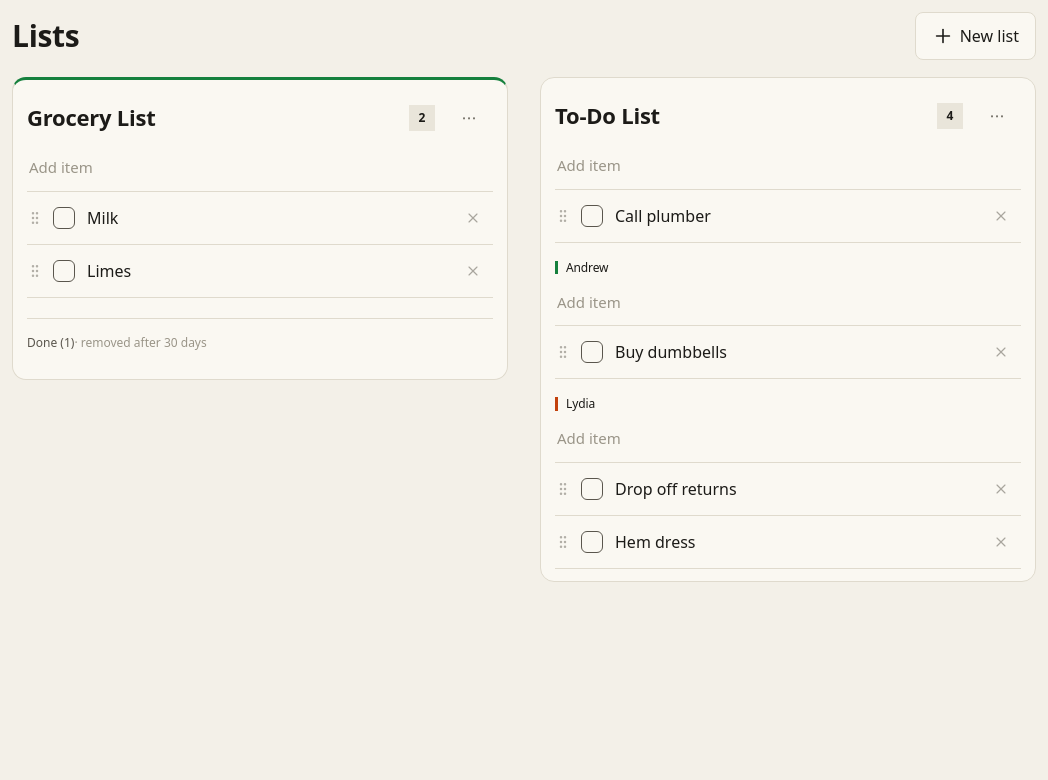
Test: ListsBoard › edits an item by tapping its words, and Escape cancels
This screenshot has width=1048, height=780.
Click the button with aria-label "Edit Milk". click: (103, 218)
box: [87, 192, 441, 244]
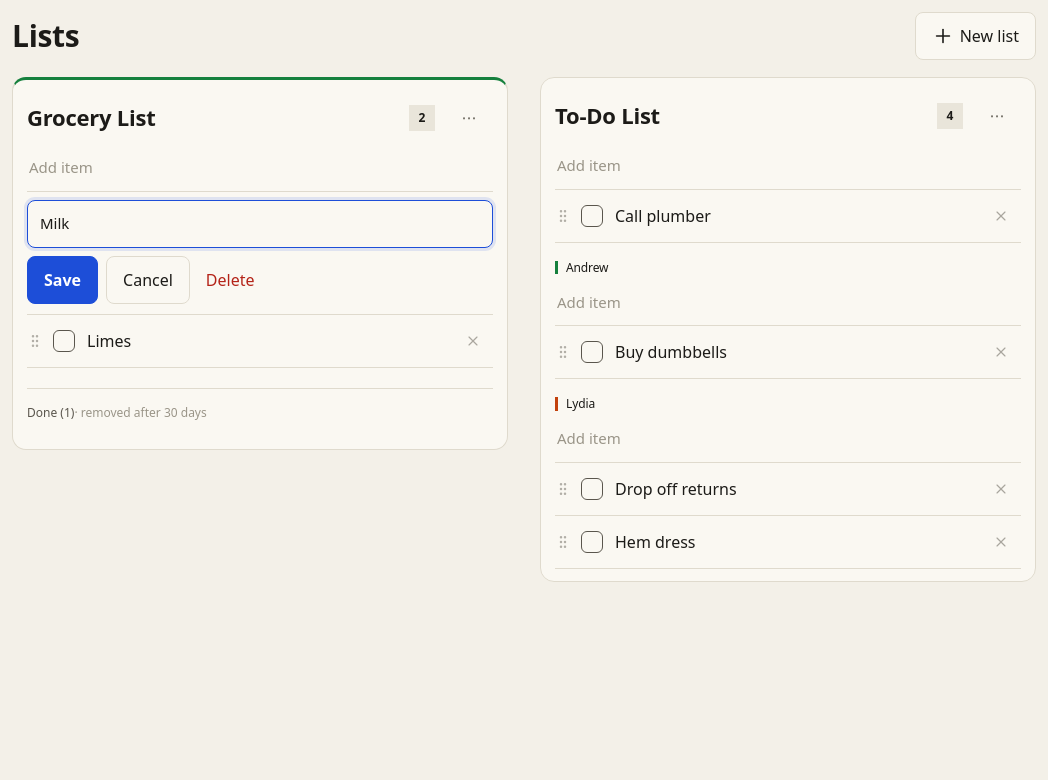
Replace the text in the field named "Item" with "Oat milk". click: (260, 224)
box: [27, 200, 493, 248]
Then press Enter
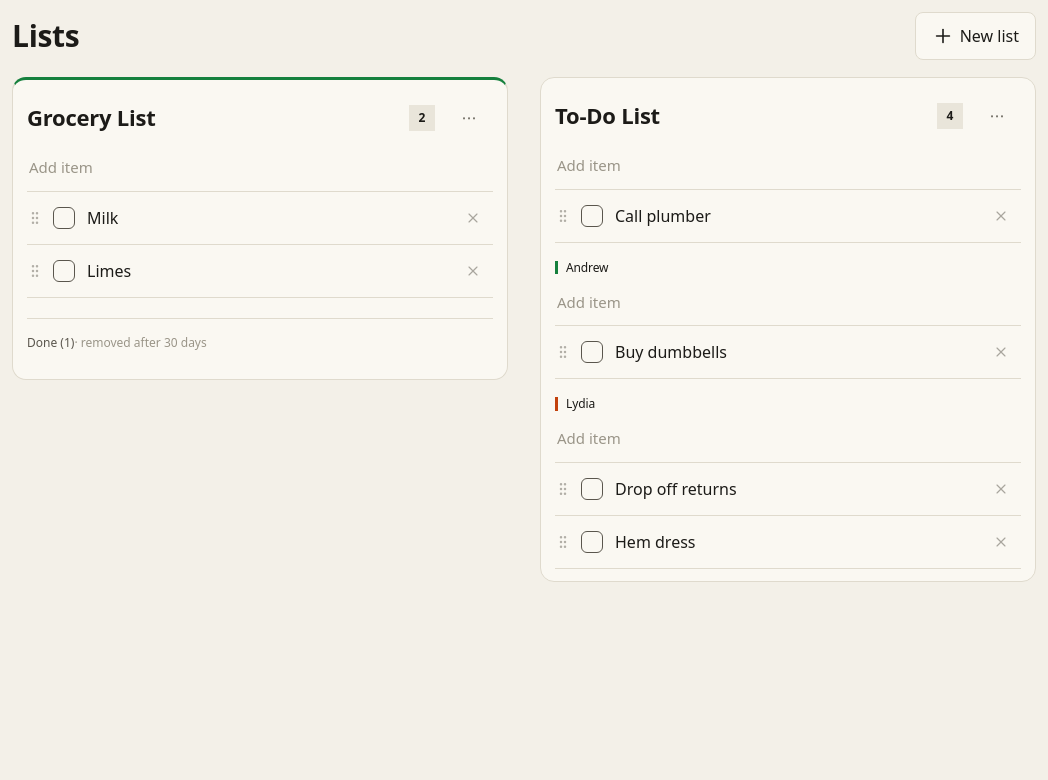
Click the button with aria-label "Edit Limes". click: (109, 270)
box: [87, 244, 441, 296]
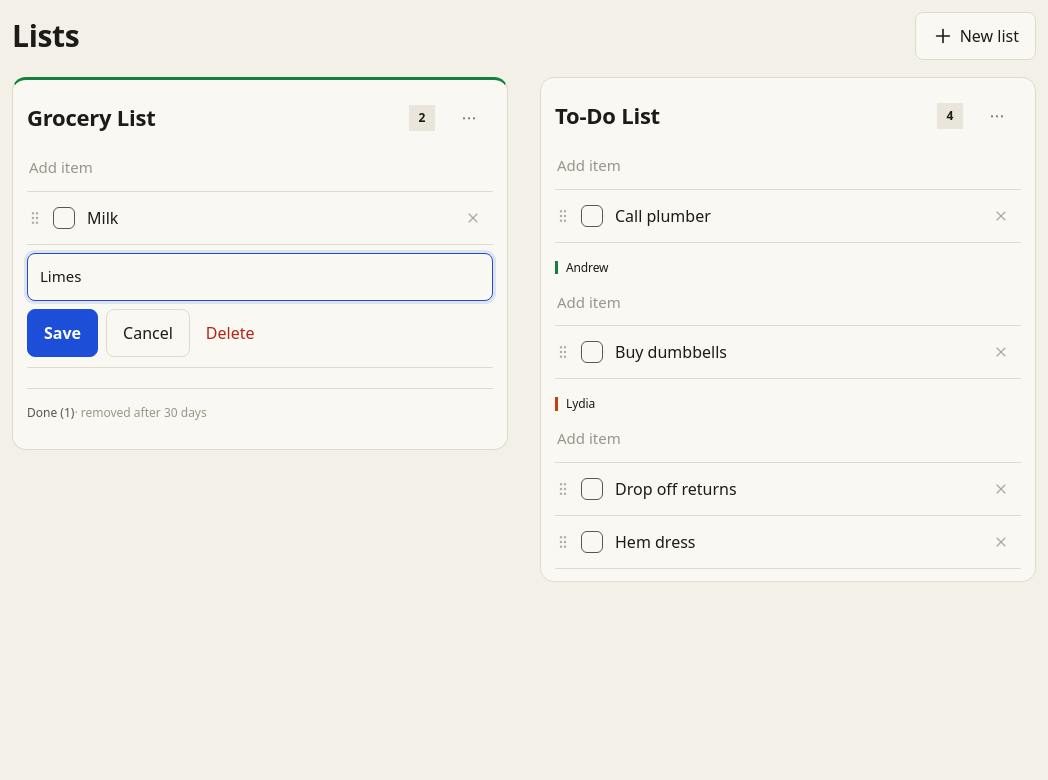
Type " x" into the field named "Item". click: (260, 276)
box: [27, 252, 493, 300]
Then press Escape
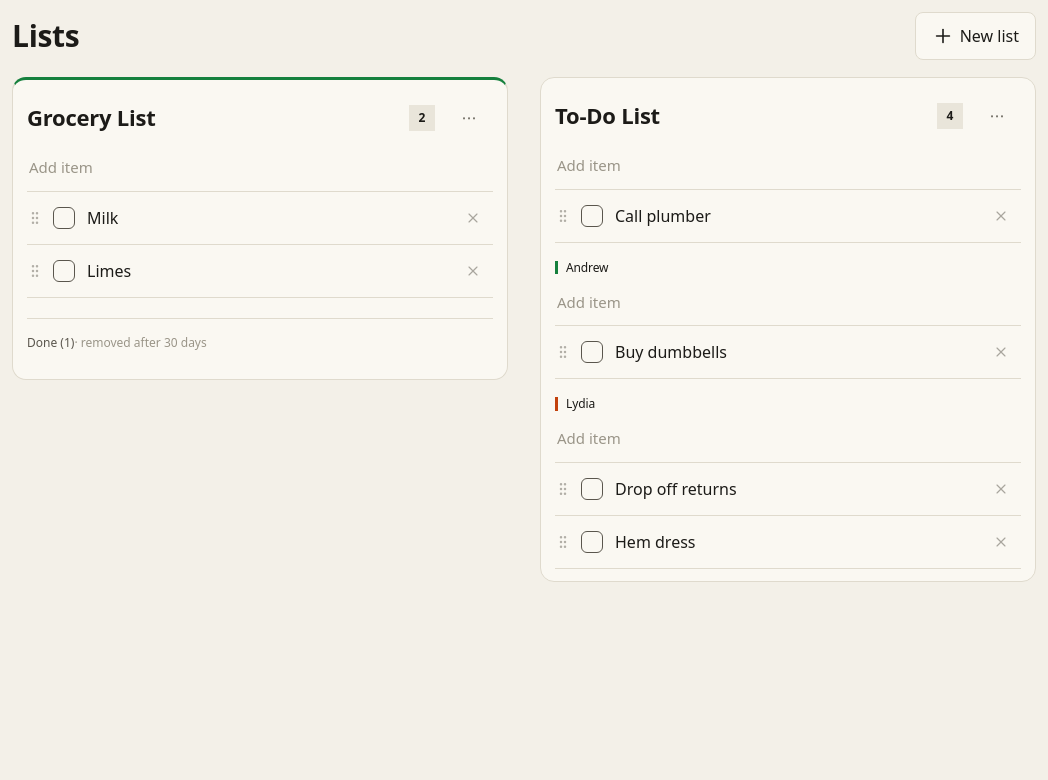
Expected: the button with aria-label "Edit Limes" is shown, [87, 244, 441, 296]
